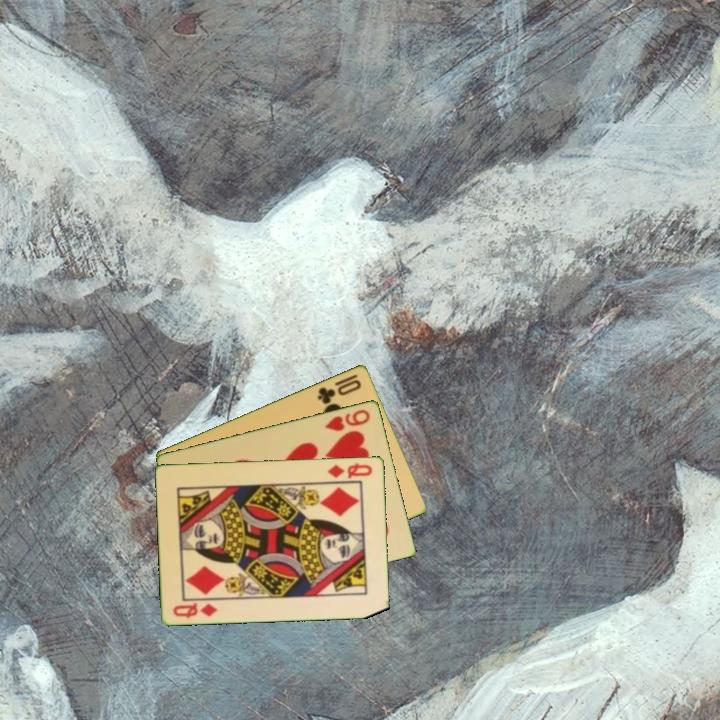10c: (314, 375, 364, 407)
9h: (321, 405, 373, 434)
Qd: (324, 459, 375, 481), (170, 599, 220, 620)
